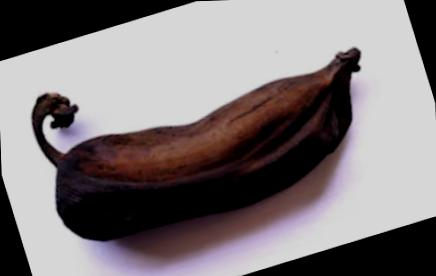Banana Overripe: (6, 39, 413, 234)
